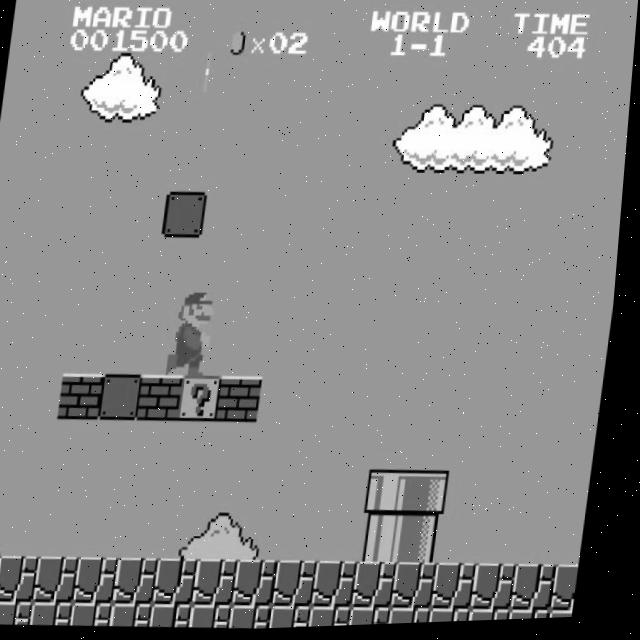0- big_mario: (169, 284, 223, 381)
1- brick_block: (224, 376, 270, 426), (64, 373, 110, 422), (144, 375, 190, 424)
13- mystery_block: (184, 376, 230, 425)
14- pipe: (367, 517, 413, 567), (407, 518, 453, 568)
15- pipe_head: (372, 472, 418, 521), (412, 473, 458, 522)
17- undestructible_block: (361, 564, 408, 613), (282, 561, 328, 611), (401, 564, 447, 614), (3, 555, 49, 604), (43, 556, 89, 605), (83, 557, 129, 606), (123, 558, 169, 607), (162, 559, 208, 608), (202, 560, 248, 609), (242, 561, 288, 610), (322, 562, 368, 611), (441, 565, 487, 614), (481, 566, 527, 615), (521, 567, 567, 616), (561, 569, 588, 616), (40, 601, 84, 628), (160, 604, 203, 631), (200, 605, 243, 632), (0, 601, 44, 627), (80, 602, 124, 628), (239, 606, 283, 632), (120, 603, 163, 629), (279, 606, 322, 631), (319, 607, 362, 630), (359, 608, 402, 628), (399, 610, 442, 627), (439, 611, 482, 626), (479, 612, 522, 625), (519, 612, 562, 624), (0, 554, 9, 603), (560, 614, 583, 623), (0, 600, 4, 626)
3- empty_block: (104, 374, 150, 423), (165, 192, 211, 240)
